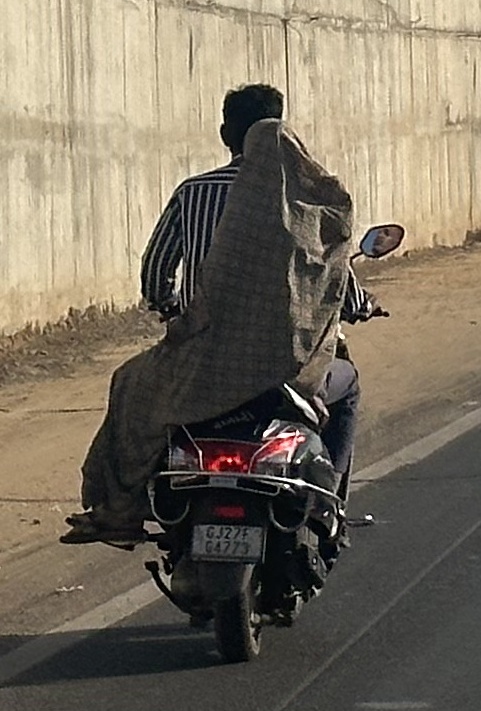BikeWithRider: (52, 73, 409, 670)
NoHelmet: (212, 81, 291, 163), (236, 113, 311, 187)
